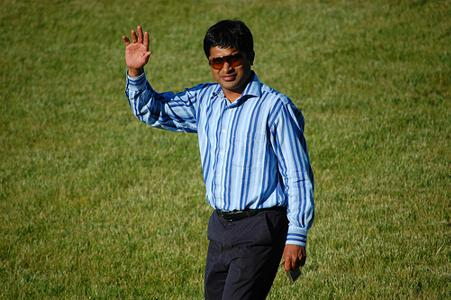person: (122, 19, 316, 300)
